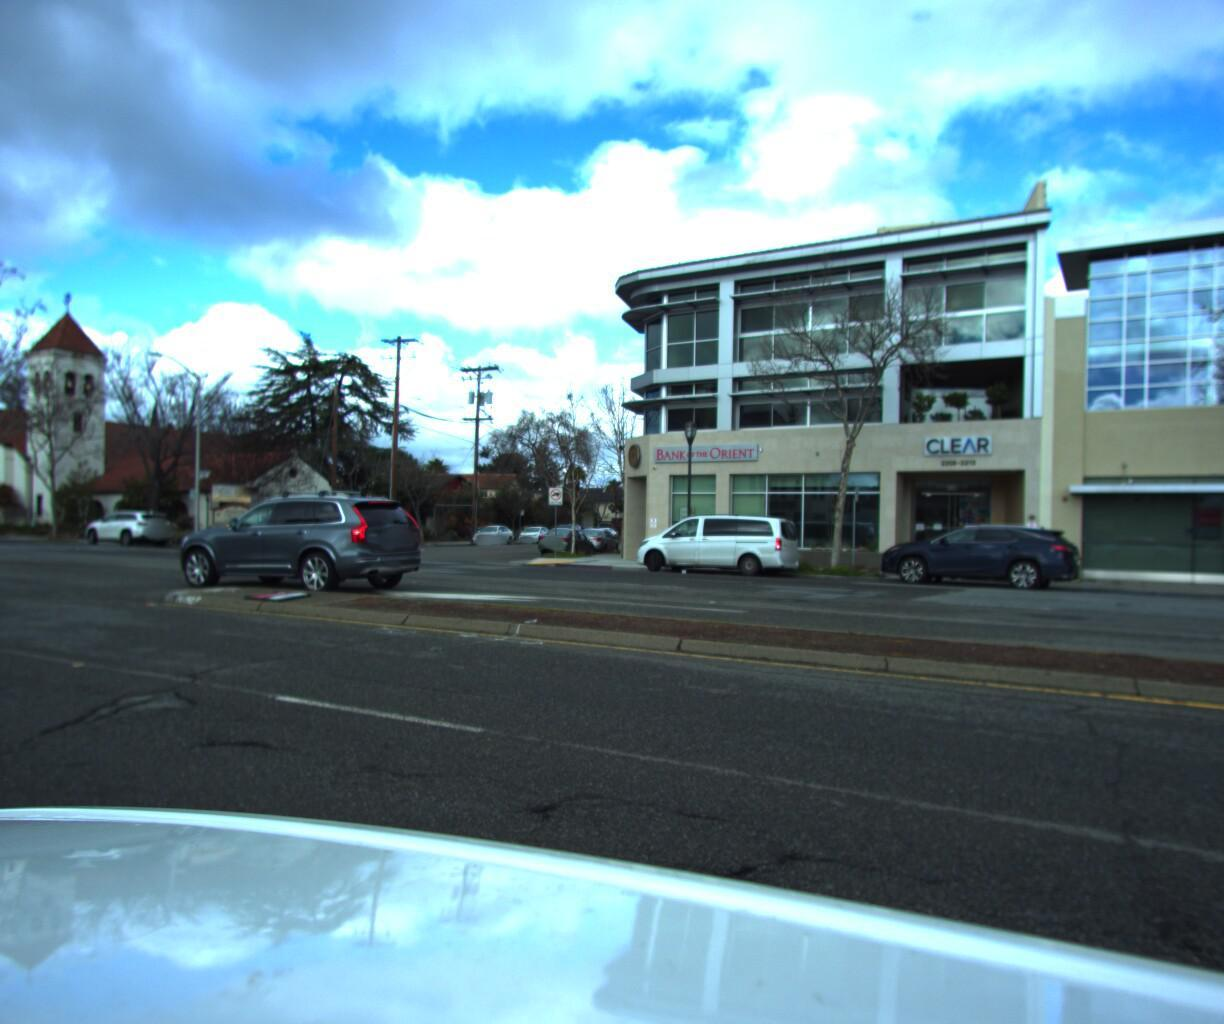car: (155, 483, 438, 601), (863, 514, 1084, 591), (622, 506, 804, 575), (73, 504, 177, 545), (530, 521, 596, 554), (567, 521, 622, 551), (469, 518, 516, 541), (515, 519, 555, 539)
